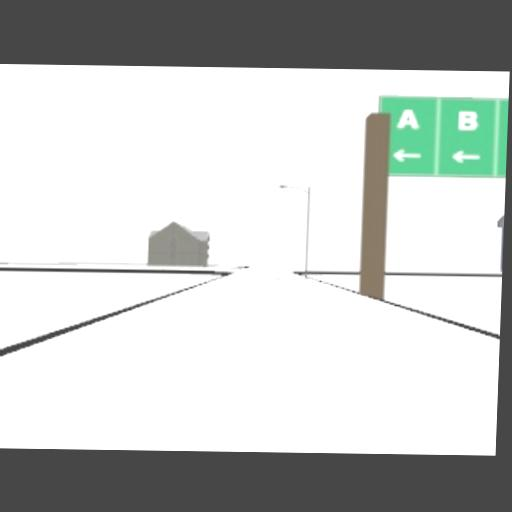A: (396, 106, 420, 130)
B: (456, 110, 477, 130)
Left: (391, 148, 422, 162), (451, 149, 482, 163)
